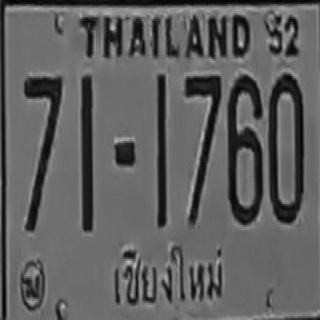N00: (268, 73, 304, 224)
N01: (156, 73, 169, 230), (80, 74, 93, 219)
N06: (227, 74, 263, 225)
N07: (23, 75, 62, 230), (184, 74, 222, 225)
P11: (107, 238, 231, 306)
